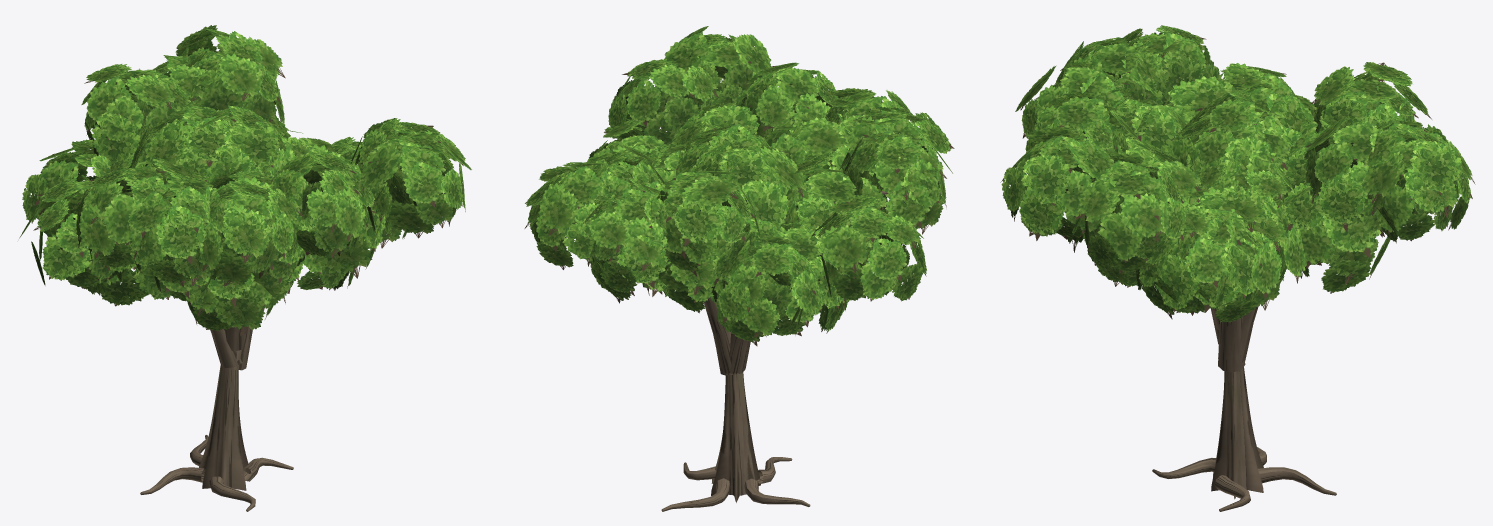
3 renders of one model, left to right at view 1: azimuth 30°, elevation 25°; view 2: azimuth 150°, elevation 25°; view 3: azimuth 270°, elevation 25°, orthographic. The views are drawn at different scales.
Parts seen in each view (by area): view 1: BigTree-forest-b; view 2: BigTree-forest-b; view 3: BigTree-forest-b.
Part boxes in pixels (left/top/right/bottom): BigTree-forest-b: left=19, top=25, right=471, bottom=511; BigTree-forest-b: left=524, top=26, right=954, bottom=511; BigTree-forest-b: left=1000, top=25, right=1475, bottom=511.
Bounding box in the file's own units: 20.2 × 19.5 × 20.84.
Materials: 1 (1 with a texture image).
